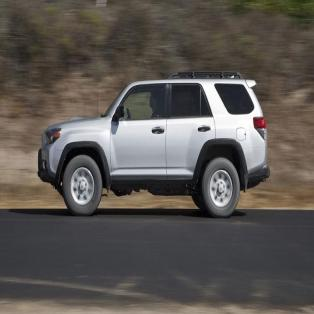Auto: (38, 70, 271, 222)
